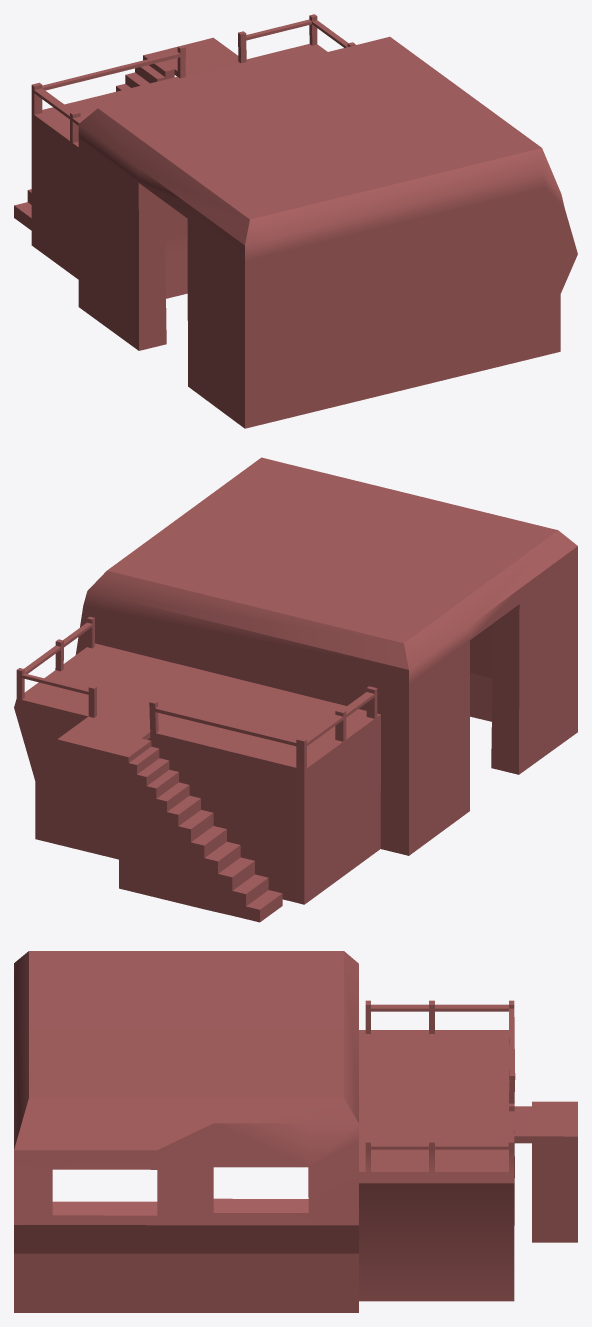
File: Bunker_Balcony.fbx
3 renders of one model, top to bottom at view 1: azimuth 30°, elevation 25°; view 2: azimuth 150°, elevation 25°; view 3: azimuth 270°, elevation 25°, orthographic. The views are drawn at different scales.
Parts seen in each view (by area): view 1: Bunker_with_Balcony; view 2: Bunker_with_Balcony; view 3: Bunker_with_Balcony.
Boxes of the visible parts, box(x1,y1,x2,y2) form: Bunker_with_Balcony: box(14, 14, 577, 428); Bunker_with_Balcony: box(14, 457, 577, 922); Bunker_with_Balcony: box(14, 951, 577, 1312).
Size of the model in its own units: 583 by 337 by 824.
